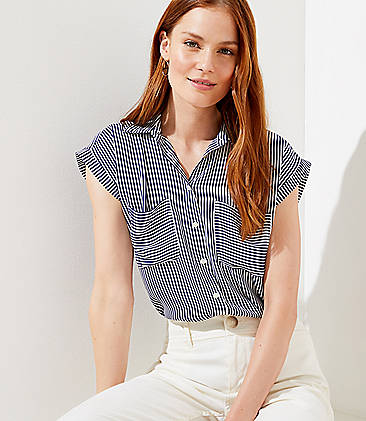C_short blouse: (76, 113, 313, 322)
